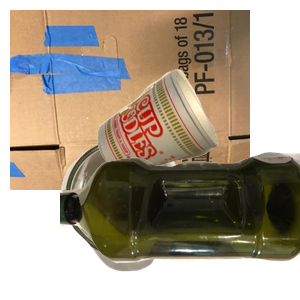cardboard: (10, 10, 250, 190)
glass: (59, 135, 254, 300)
plastic: (60, 149, 300, 300)
trash: (95, 67, 300, 238)
